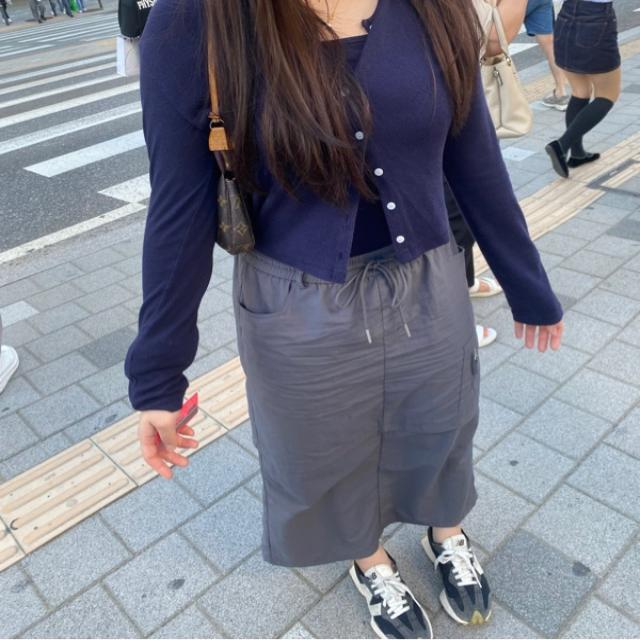cardigan: (125, 0, 561, 411)
skirt: (237, 244, 478, 564)
